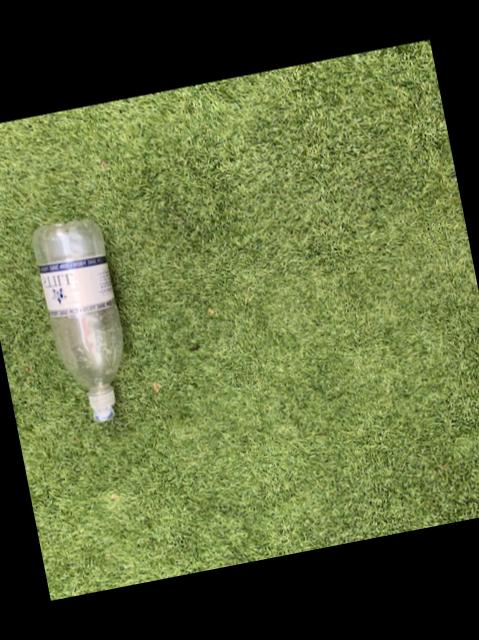plastic: (30, 218, 120, 420)
